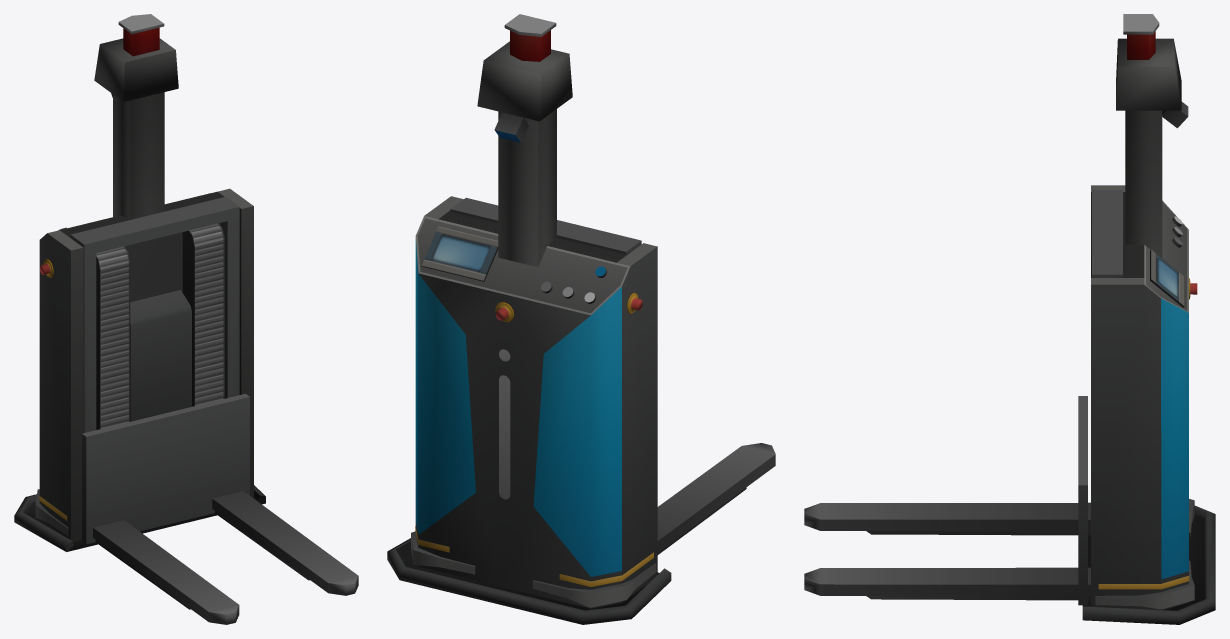
Rendered from AGV_ISo_Forklift_R.glb.
The picture shows the model from 3 angles, left to right: view 1: azimuth 30°, elevation 25°; view 2: azimuth 150°, elevation 25°; view 3: azimuth 270°, elevation 25°; orthographic projection. The views are drawn at different scales.
Visible parts, largest first — view 1: AGV_ISo_Forklift_R; view 2: AGV_ISo_Forklift_R; view 3: AGV_ISo_Forklift_R.
Part boxes in pixels (x1,y1,x2,y2): AGV_ISo_Forklift_R: [14, 14, 358, 624]; AGV_ISo_Forklift_R: [387, 14, 775, 624]; AGV_ISo_Forklift_R: [804, 14, 1215, 624].
Bounding box in the file's own units: 0.6419 × 1.38 × 0.946.
Materials: 1 (1 with a texture image).
